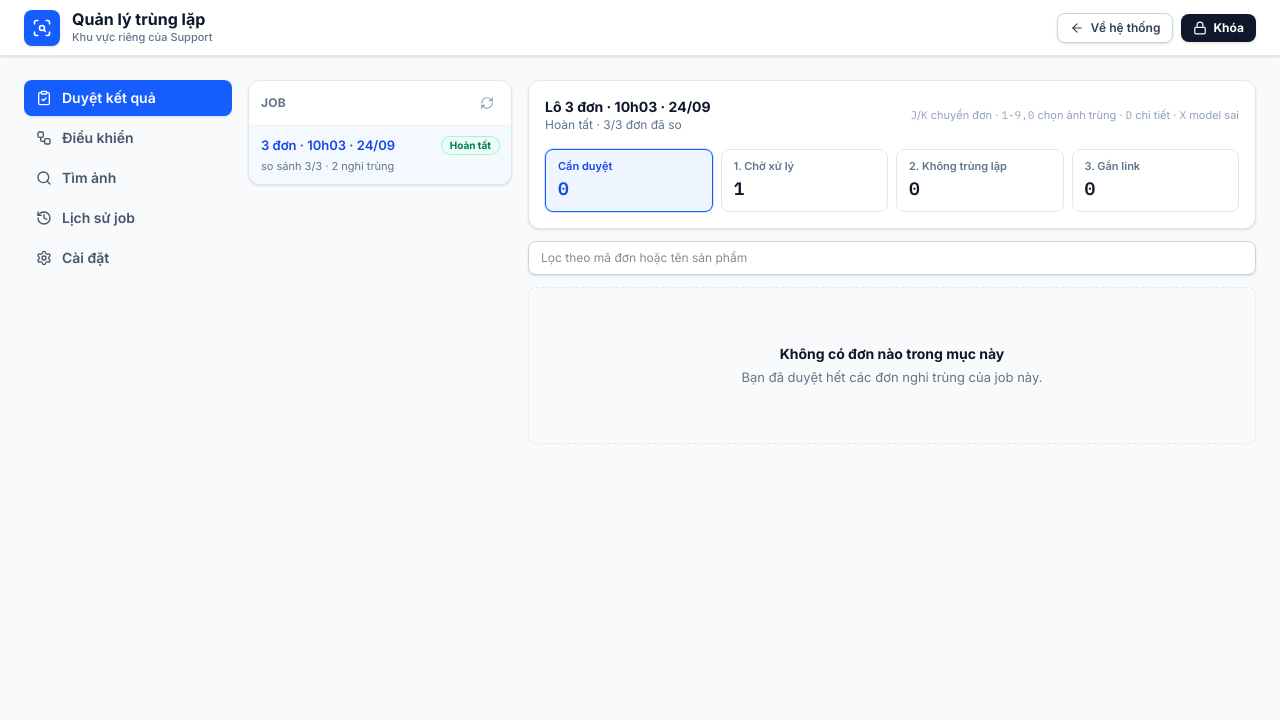
it: duplicate review page › shows only the original and the picked image in Chờ xử lý, frozen once sent to Telegram
This screenshot has width=1280, height=720.
Click the tab "1. Chờ xử lý 1": (804, 180) [720,149,888,212]
(page scrolled)
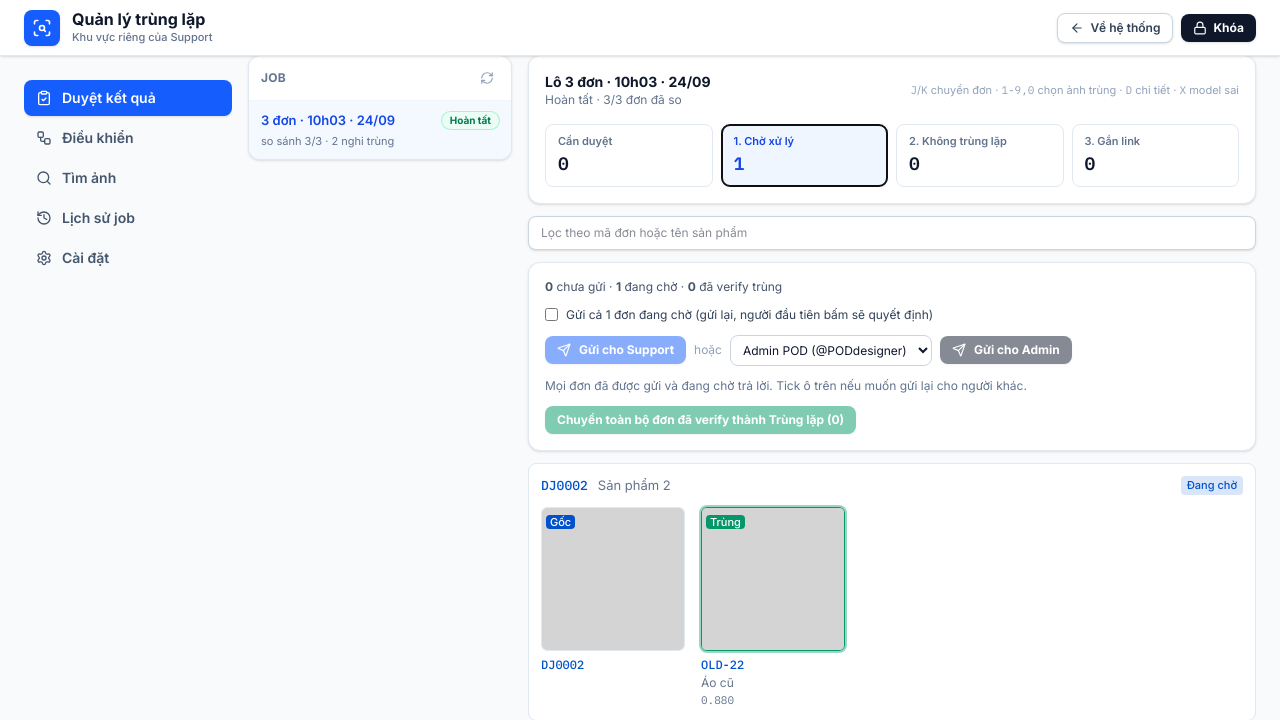
Now the text "Đang chờ" is shown, box [1181,476,1243,494]
Now the text "OLD-22" is shown, box [701,657,744,672]
